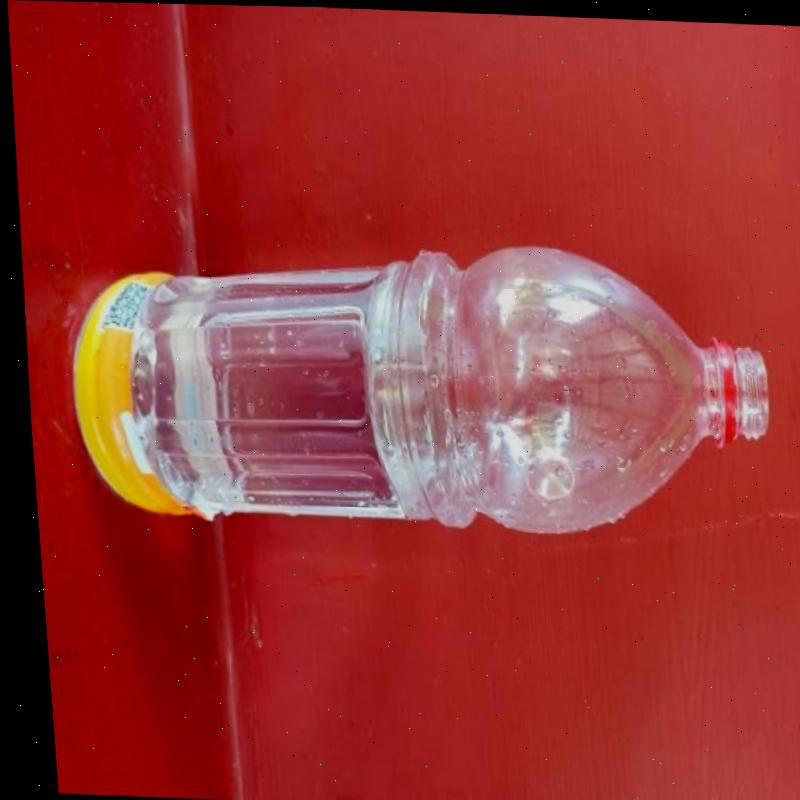botella: (56, 220, 777, 545)
